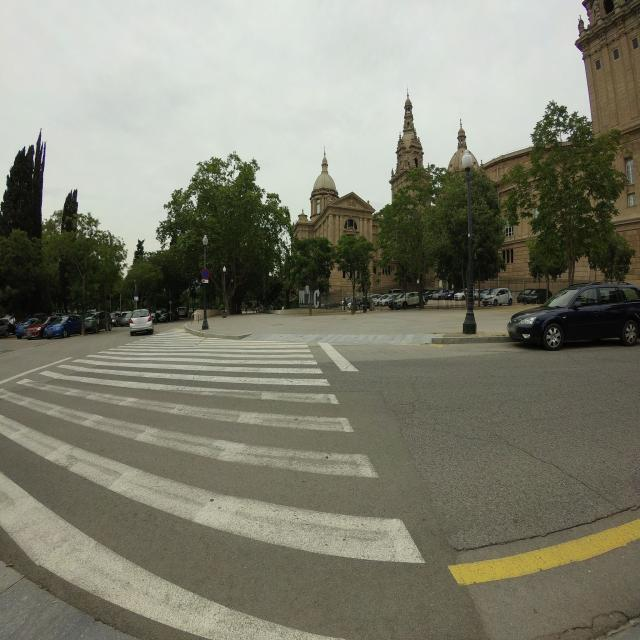forb_stopping: (201, 269, 210, 281), (134, 291, 138, 297)
